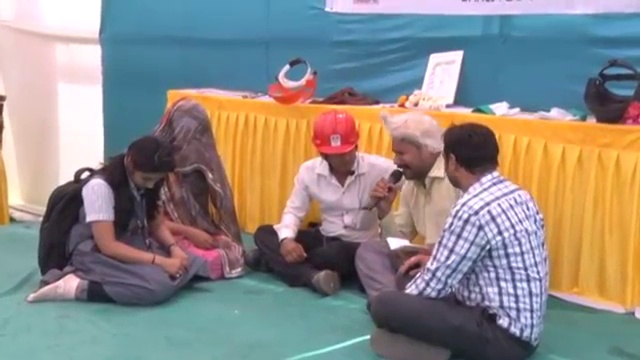helmet: (312, 115, 363, 156)
helmet_off: (442, 124, 504, 196), (386, 115, 444, 187), (114, 134, 176, 196), (158, 98, 213, 162)
helmet_on: (308, 115, 362, 181)
person: (370, 124, 556, 359), (26, 134, 197, 306), (246, 105, 396, 290), (140, 90, 248, 278), (356, 114, 463, 290)
